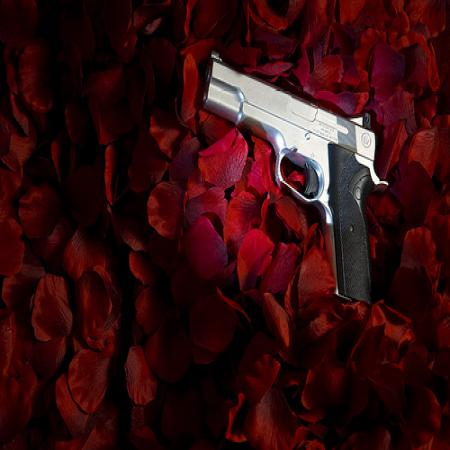Pistol: (202, 48, 390, 308)
